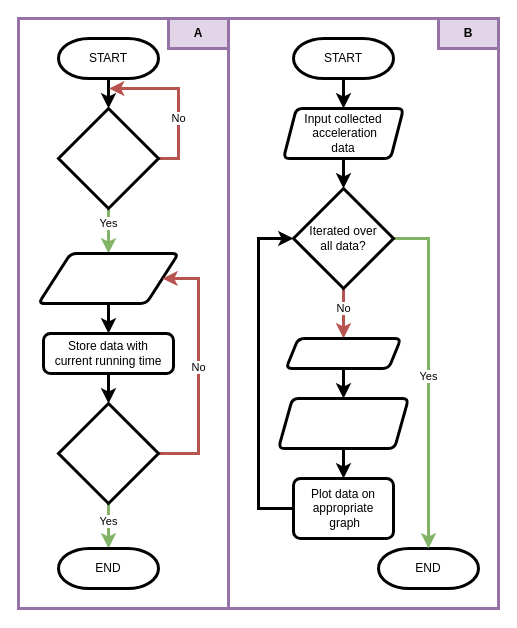
The diagram is 517 pixels wide and 628 high, and some of its shapes have lost their labels. Each missing label, with the centre of its shape:
"Calculate velocity & displacement values" belongs at (x=343, y=423).
"Calculate Δt" belongs at (x=343, y=353).
"Collect acceleration data" belongs at (x=108, y=278).
"Finish data collection?" belongs at (x=108, y=453).
"Start data collection?" belongs at (x=108, y=158).
